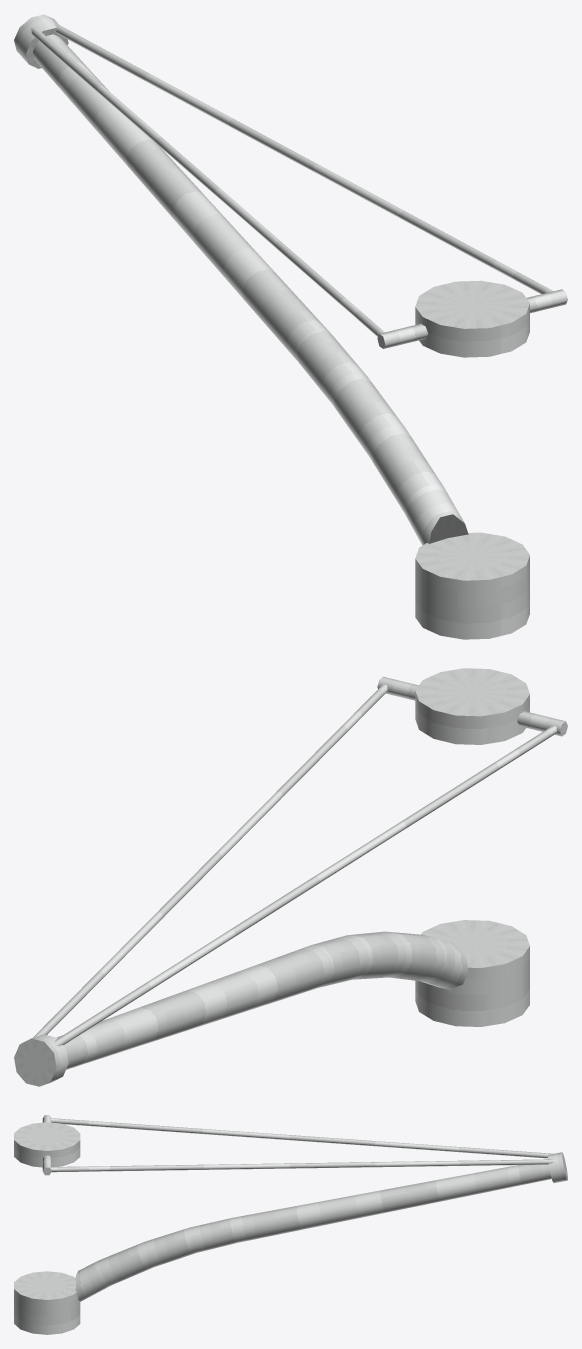
Rendered from nycsignalarm_regular6_inv.obj.
The picture shows the model from 3 angles, top to bottom: view 1: azimuth 30°, elevation 25°; view 2: azimuth 150°, elevation 25°; view 3: azimuth 270°, elevation 25°; orthographic projection. The views are drawn at different scales.
Visible parts, largest first — view 1: nycsignalarm_regular6_inv; view 2: nycsignalarm_regular6_inv; view 3: nycsignalarm_regular6_inv.
Part boxes in pixels (x1,y1,x2,y2): nycsignalarm_regular6_inv: [14, 14, 567, 639]; nycsignalarm_regular6_inv: [14, 668, 567, 1086]; nycsignalarm_regular6_inv: [14, 1115, 567, 1334].
Size of the model in its own units: 0.2255 by 0.3664 by 1.
